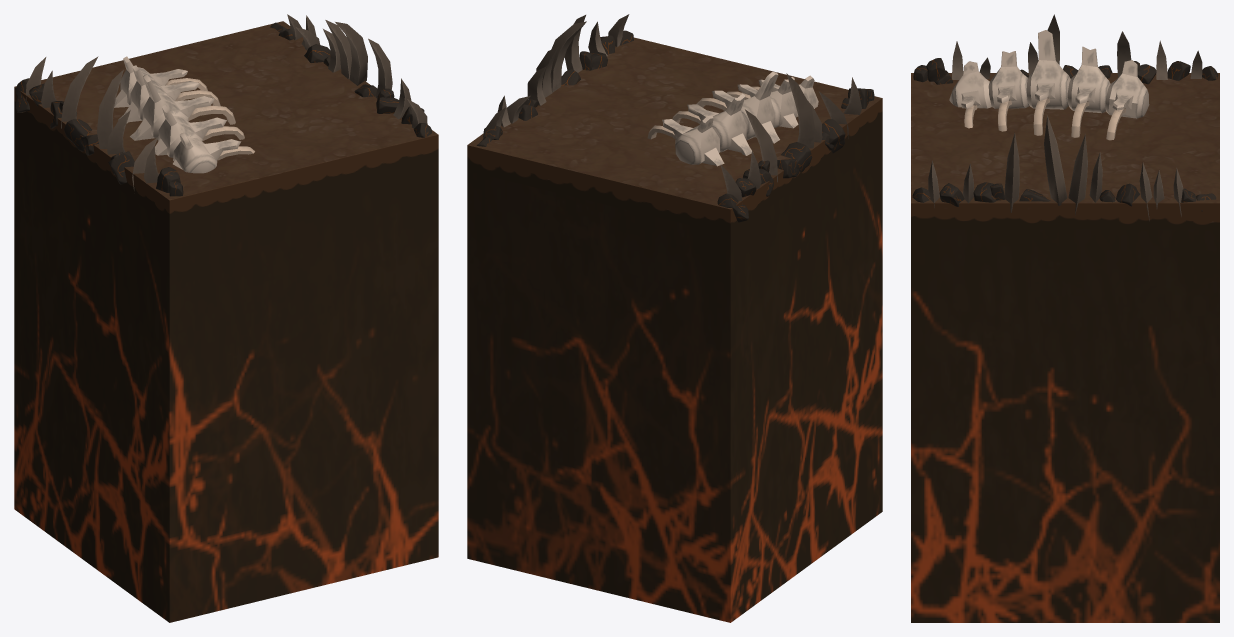
File: Plataforma Hueso Der-Med.fbx
3 renders of one model, left to right at view 1: azimuth 30°, elevation 25°; view 2: azimuth 150°, elevation 25°; view 3: azimuth 270°, elevation 25°, orthographic. The views are drawn at different scales.
Visible parts, largest first — view 1: Plataforma 1.006, Cylinder.012, Cylinder.010, Cylinder.011, Cylinder.013, Cylinder.014, Cone.014, Cone.004, Cone.001, Cone.008, Cone.011; view 2: Plataforma 1.006, Cylinder.014, Cylinder.013, Cylinder.012, Cylinder.011, Cone.004, Cone.014, Cone.001; view 3: Plataforma 1.006, Cylinder.012, Cylinder.013, Cylinder.014, Cylinder.011, Cylinder.010, Cone.014, Cone.011, Cone.008, Cone.012.
Boxes of the visible parts, left/top/right/bottom form: Plataforma 1.006: left=14, top=21, right=438, bottom=622; Cylinder.012: left=130, top=75, right=214, bottom=140; Cylinder.010: left=173, top=132, right=241, bottom=173; Cylinder.011: left=155, top=105, right=226, bottom=157; Cylinder.013: left=118, top=65, right=199, bottom=123; Cylinder.014: left=114, top=56, right=187, bottom=107; Cone.014: left=335, top=22, right=367, bottom=85; Cone.004: left=97, top=70, right=123, bottom=148; Cone.001: left=61, top=56, right=98, bottom=128; Cone.008: left=368, top=38, right=392, bottom=98; Cone.011: left=325, top=20, right=351, bottom=79; Plataforma 1.006: left=467, top=37, right=882, bottom=622; Cylinder.014: left=662, top=115, right=724, bottom=166; Cylinder.013: left=687, top=93, right=751, bottom=155; Cylinder.012: left=712, top=72, right=779, bottom=143; Cylinder.011: left=737, top=76, right=798, bottom=128; Cone.004: left=786, top=73, right=815, bottom=148; Cone.014: left=550, top=21, right=586, bottom=92; Cone.001: left=745, top=109, right=777, bottom=182; Plataforma 1.006: left=911, top=73, right=1219, bottom=622; Cylinder.012: left=1026, top=30, right=1070, bottom=109; Cylinder.013: left=1067, top=46, right=1110, bottom=113; Cylinder.014: left=1105, top=60, right=1149, bottom=118; Cylinder.011: left=988, top=51, right=1029, bottom=108; Cylinder.010: left=949, top=61, right=991, bottom=108; Cone.014: left=1044, top=115, right=1067, bottom=205; Cone.011: left=1068, top=134, right=1087, bottom=215; Cone.008: left=1004, top=132, right=1019, bottom=212; Cone.012: left=1089, top=152, right=1102, bottom=202.
Bounding box in the file's own units: 1058 × 1756 × 1000.
